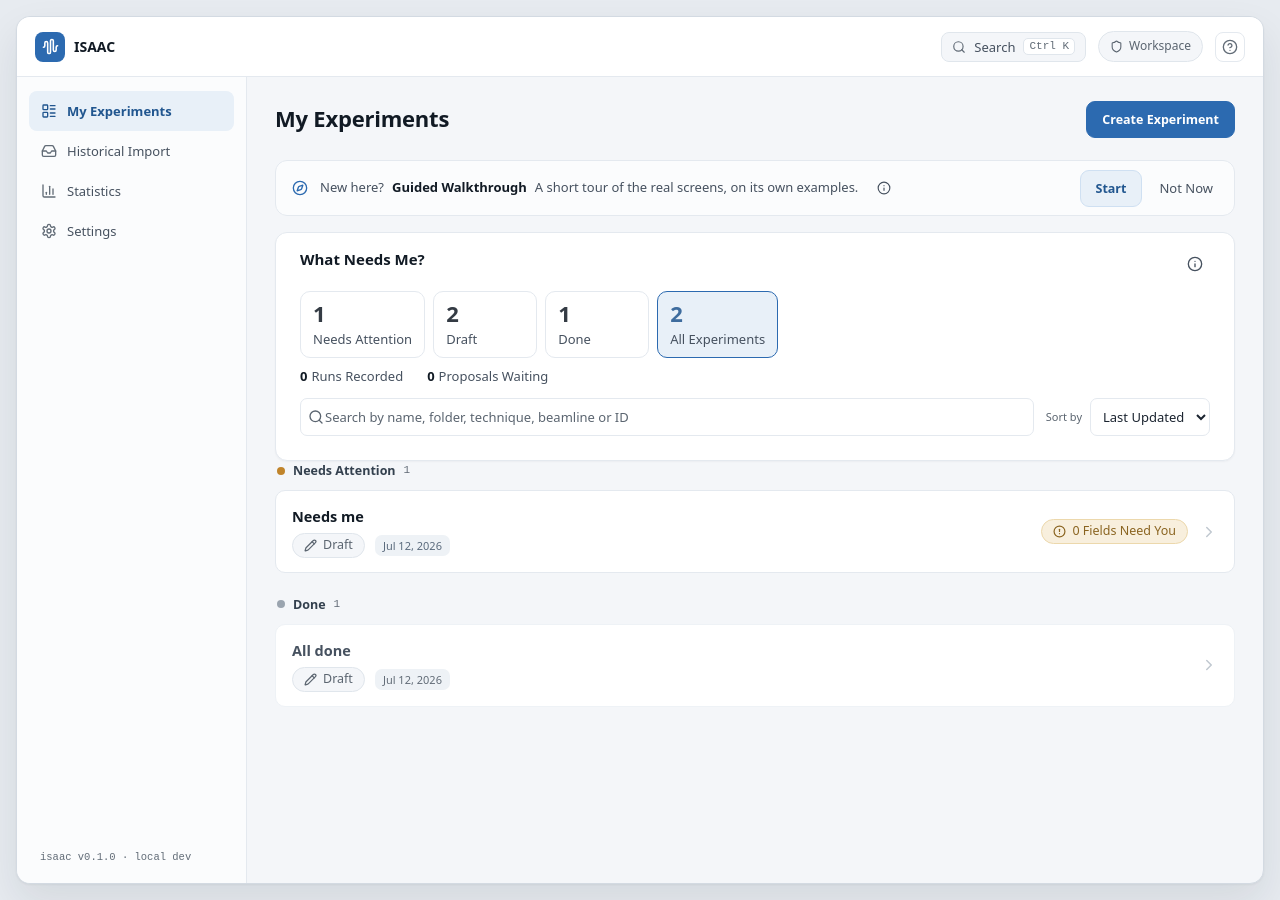
Test: search, facets and sort › a facet chip filters, and its COUNT stays over the whole list as you type
The width and height of the screenshot is (1280, 900).
expect the text "Needs me" is shown: met, box [292, 506, 364, 526]
What coordinates should you click on to do the following:
click the radio button labelled "Needs Attention 1"
I would click on:
 (363, 324)
Its box is [300, 291, 425, 358].
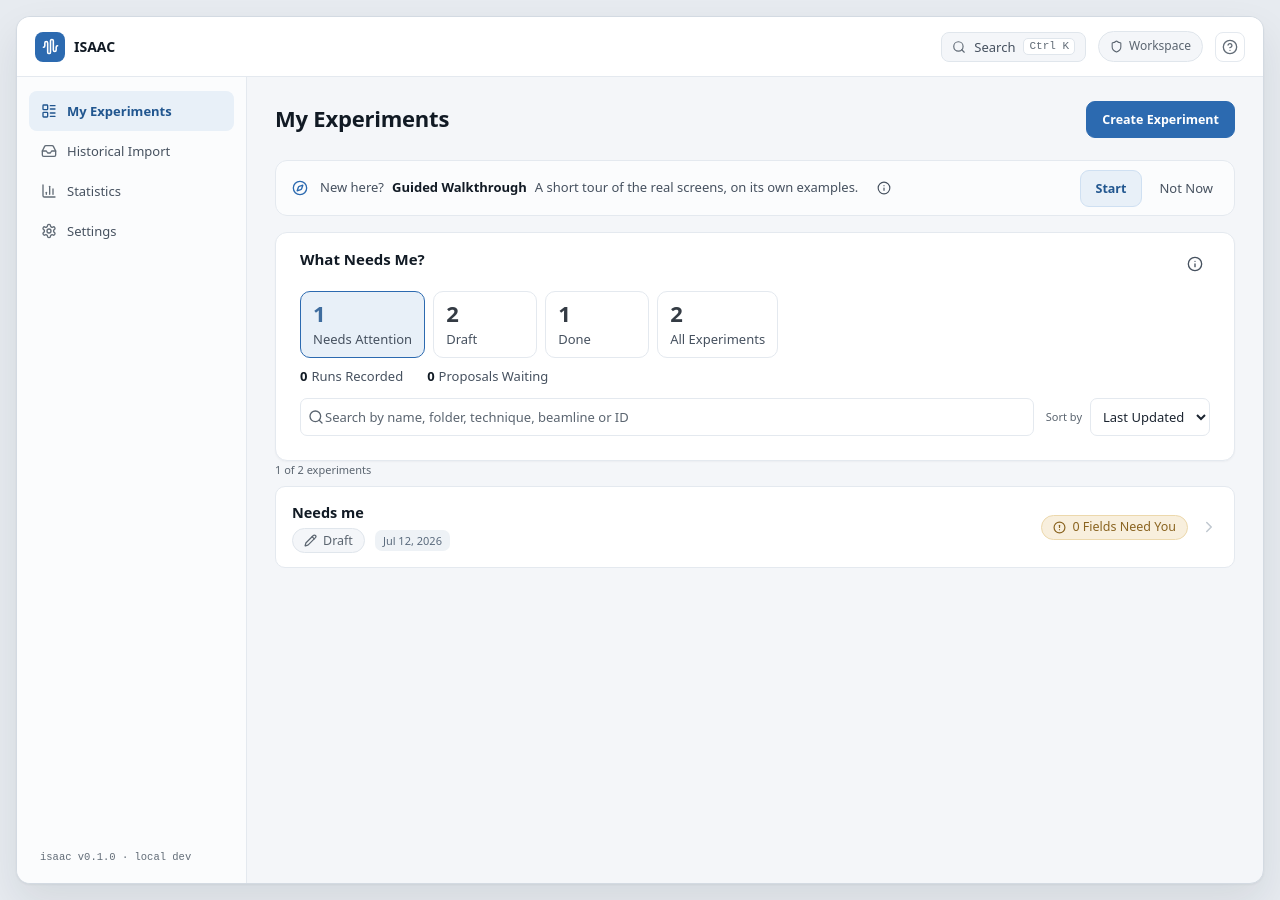
expect the radio button labelled "Done 1" is shown: met, box [545, 291, 649, 358]
expect the link "All done" is gone: met
